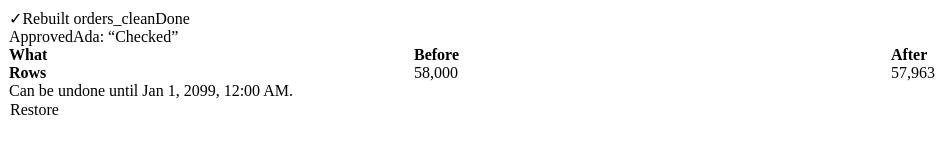
Test: ActionReceipt › shows who approved it, what changed, and reports an undo request without acting
Expected: the list item "Ada: “Checked”" is shown, x1=73 y1=28 x2=178 y2=45
Expected: the column heading "Rows" is shown, x1=9 y1=64 x2=414 y2=82
Click the button "Restore" at (34, 110), box x1=9 y1=100 x2=60 y2=120
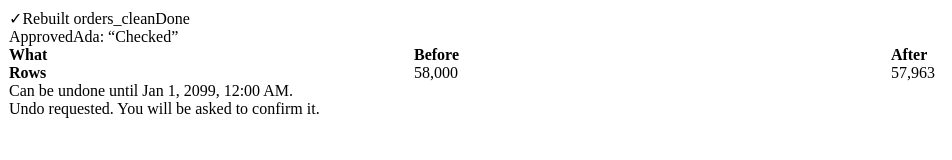
Expected: the message shows "asked to confirm", x1=9 y1=100 x2=320 y2=117
